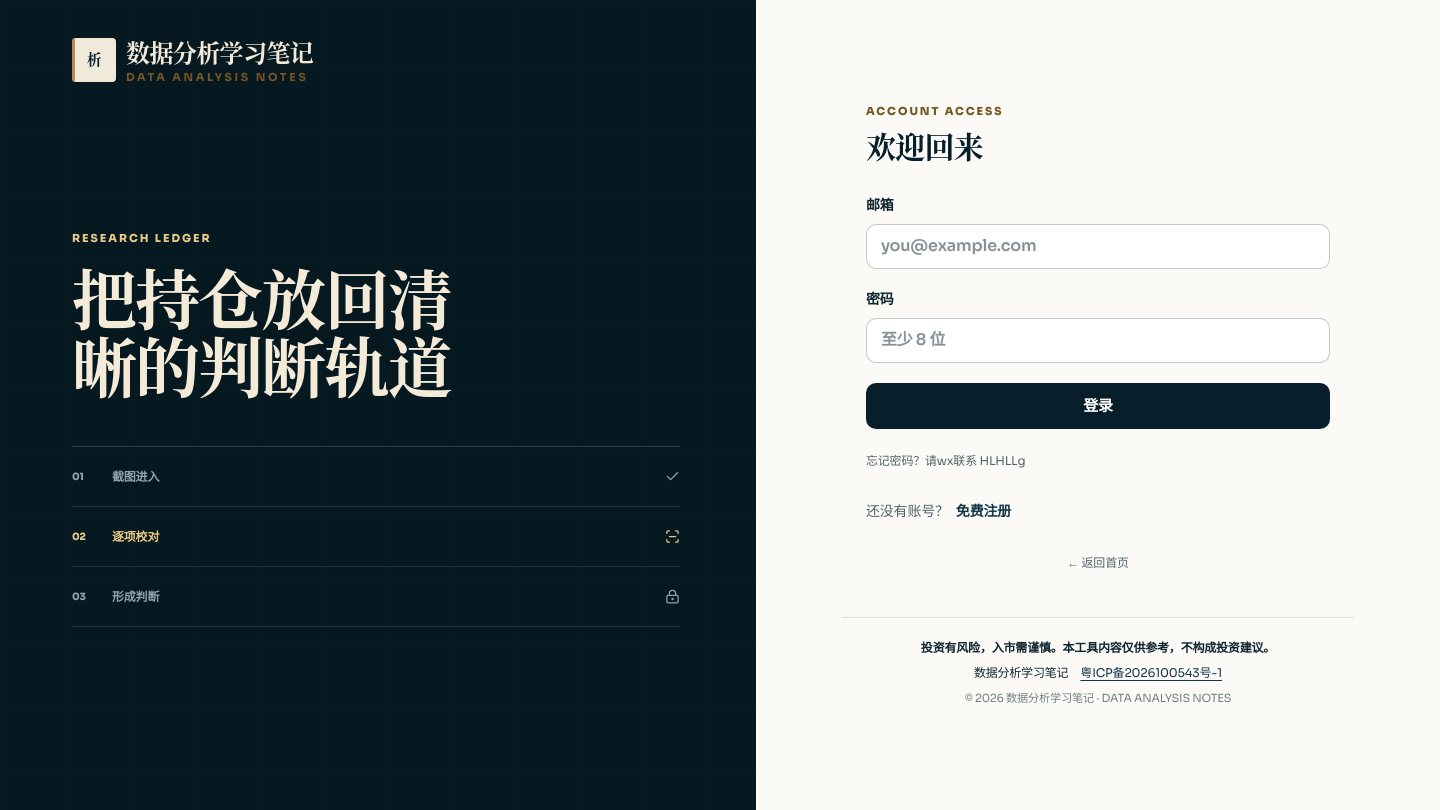
authentication pages › announces login failures and marks the related fields invalid
Type "user@example.com" into the field labelled "邮箱".
click(1098, 246); type("user@example.com")  # box x1=866 y1=224 x2=1330 y2=269
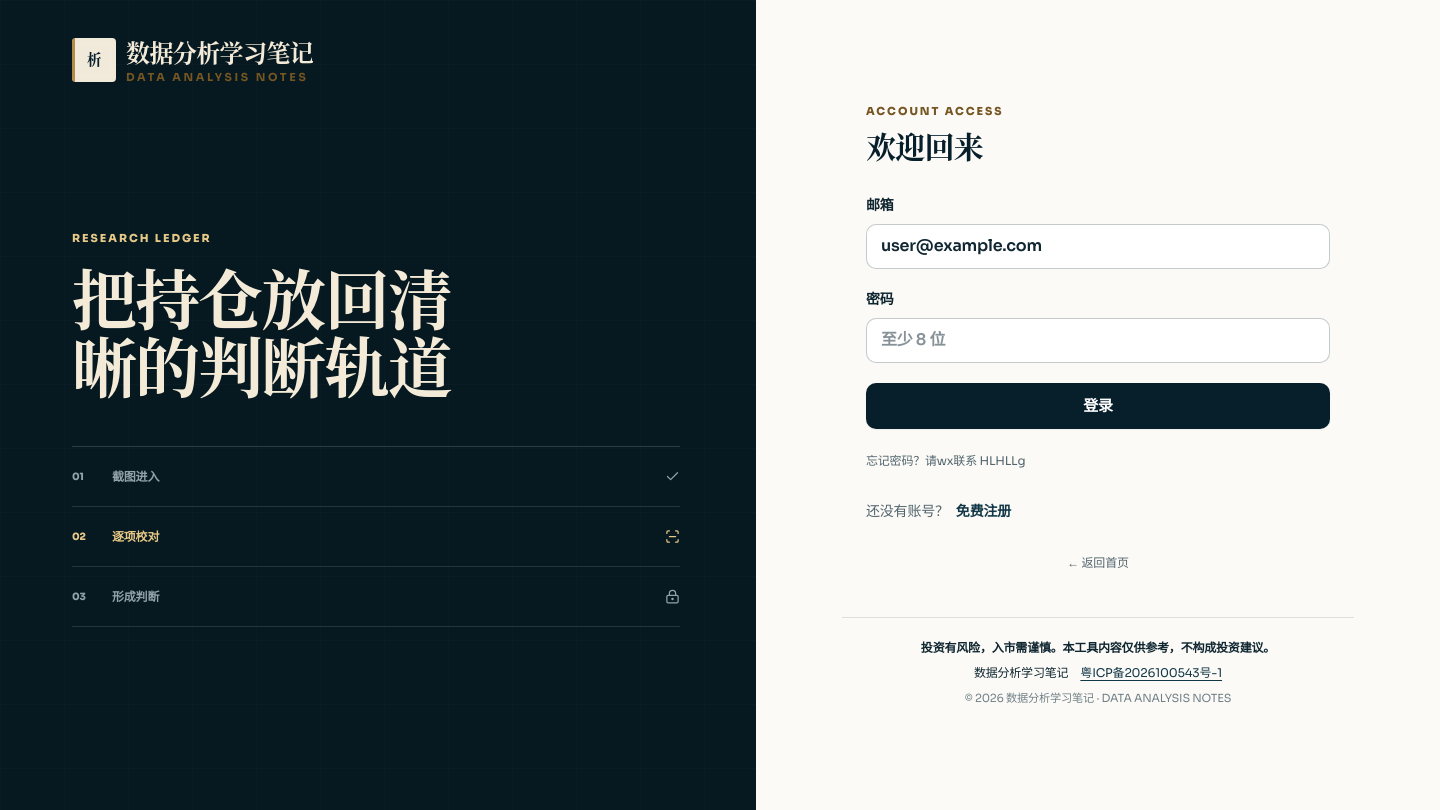
Type "bad-password" into the password field labelled "密码".
click(1098, 340); type("bad-password")  # box x1=866 y1=318 x2=1330 y2=362
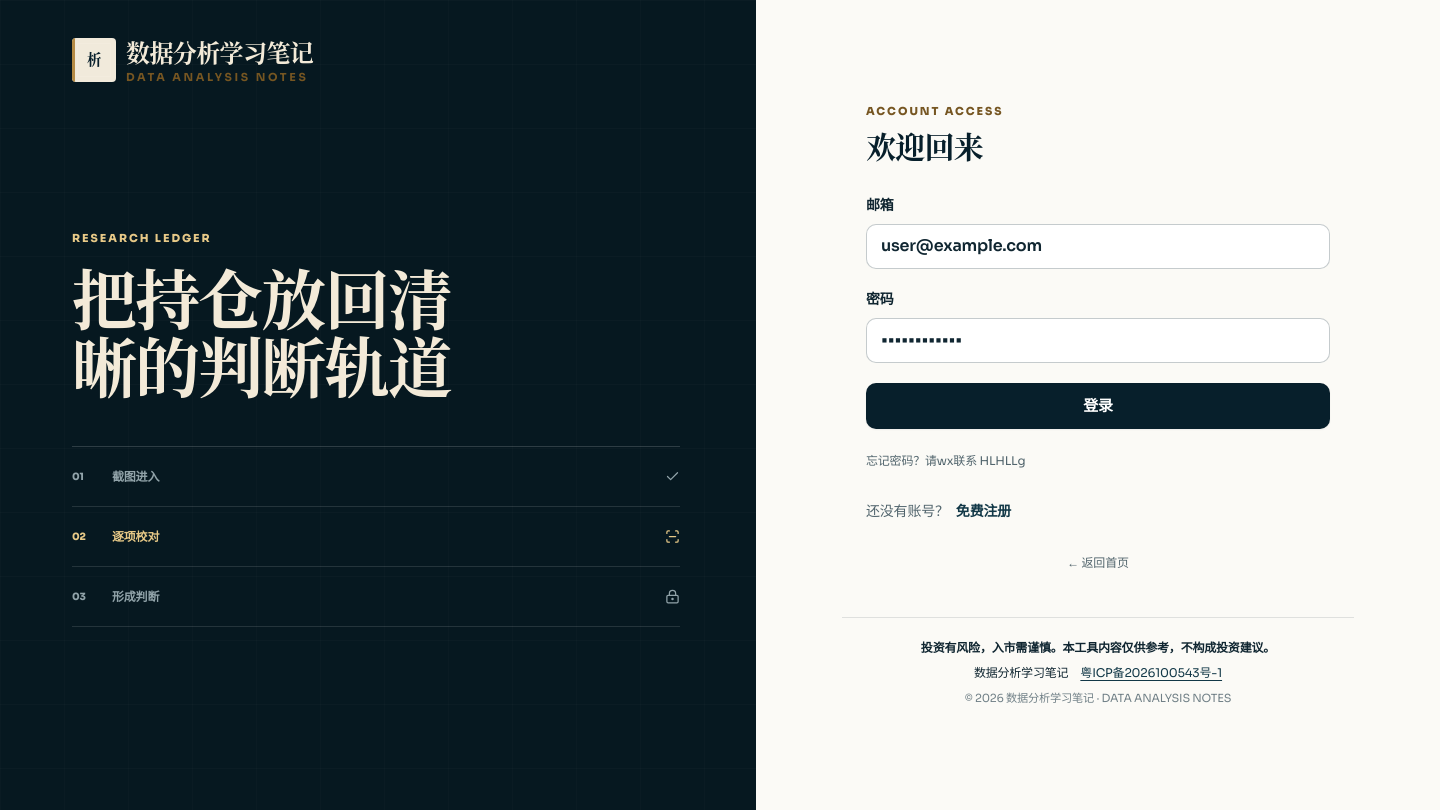
Click the button "登录".
click(1098, 406)  # box x1=866 y1=382 x2=1330 y2=429
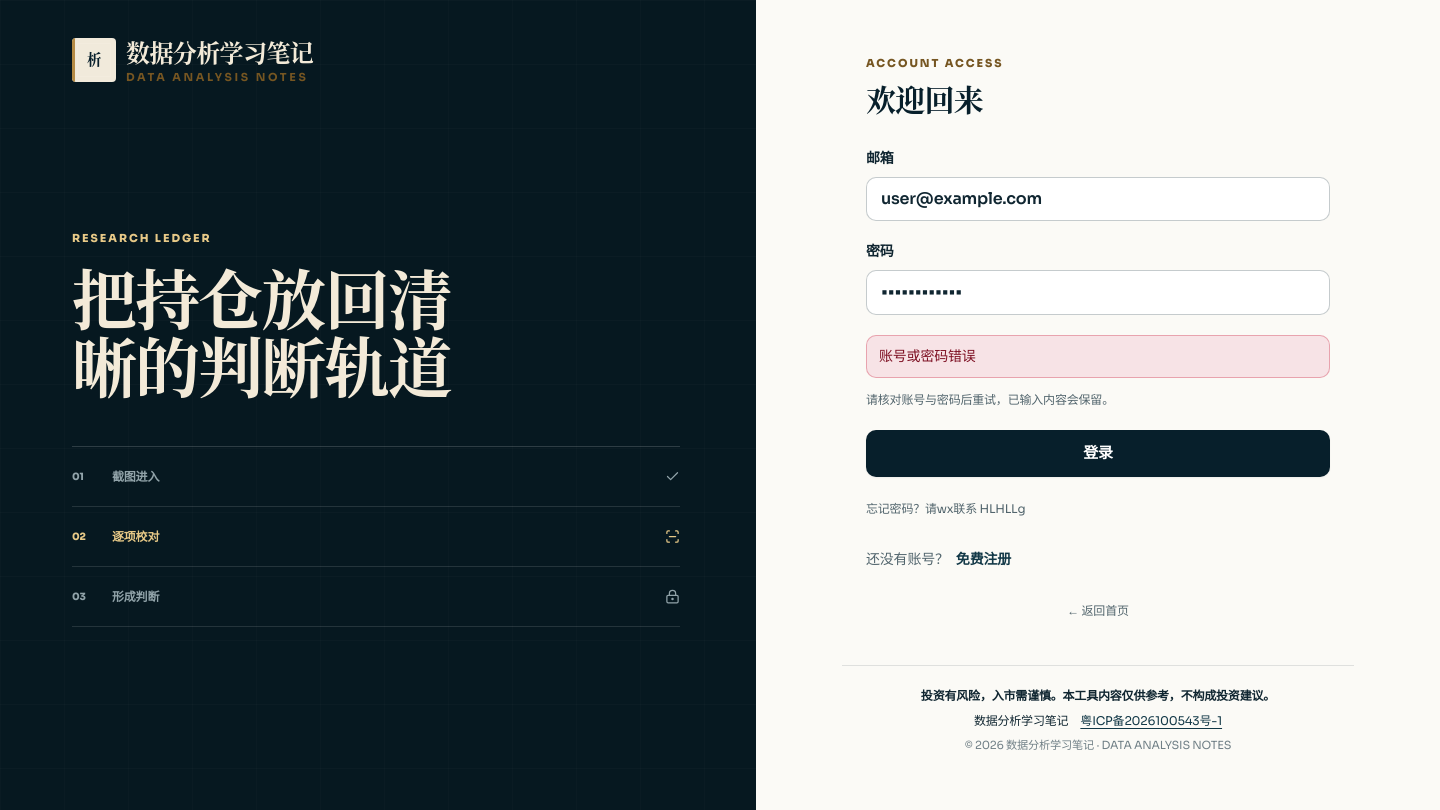
Expected: the message reads "账号或密码错误", x1=879 y1=347 x2=976 y2=365
